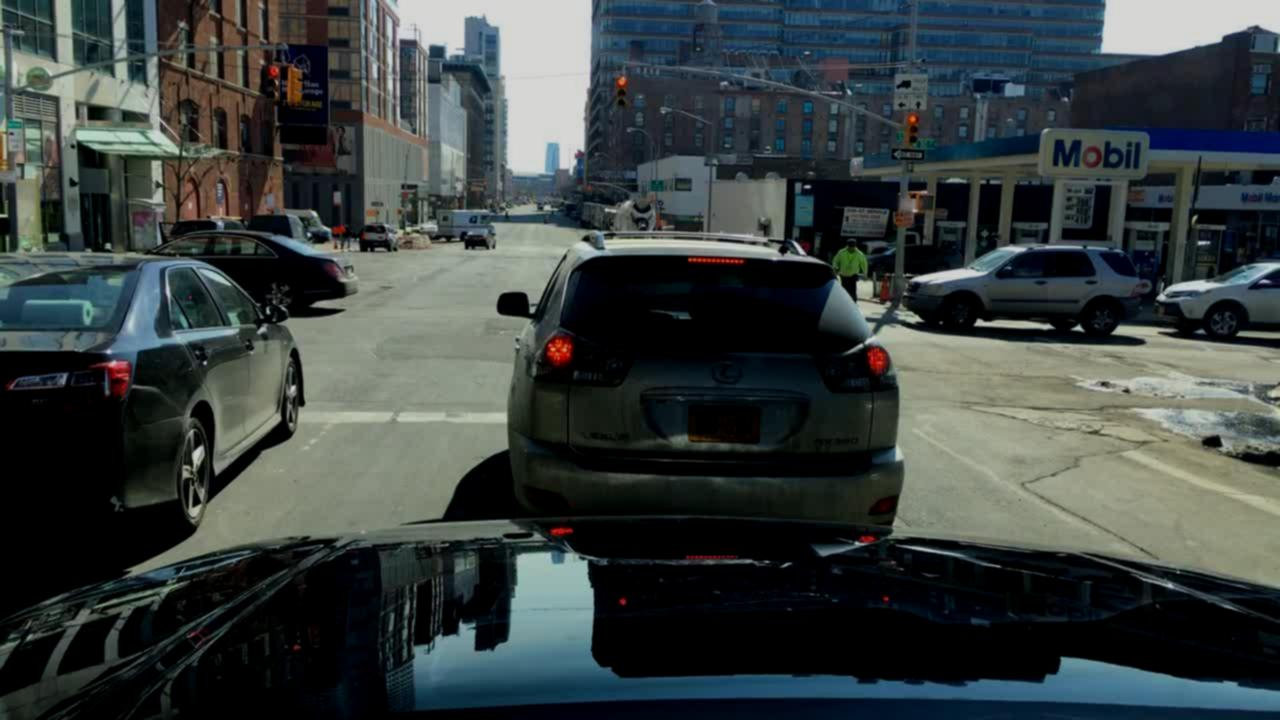lexus: (706, 356, 762, 391)
